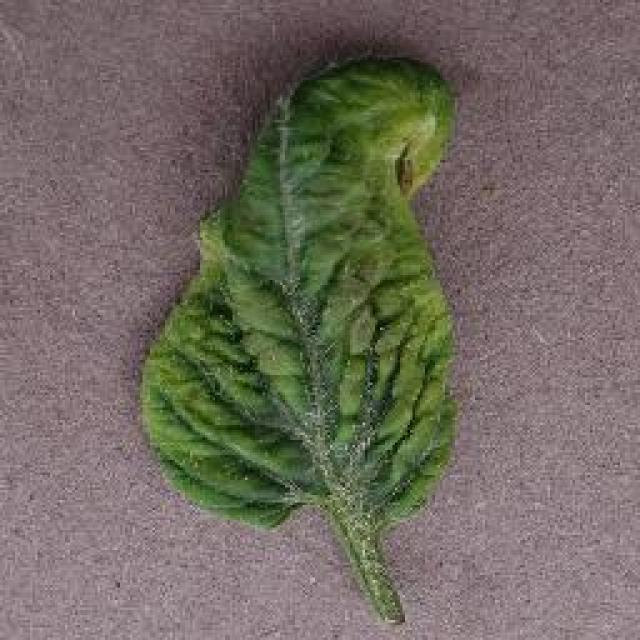Tomato yellow virus leaf: (143, 54, 465, 528)
